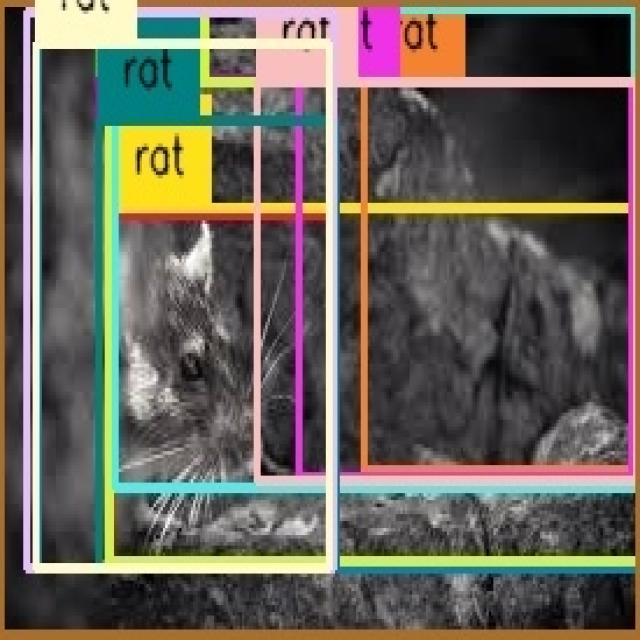rat: (1, 4, 639, 636), (39, 7, 640, 570), (99, 9, 639, 565), (108, 80, 639, 563), (115, 9, 634, 488), (110, 206, 639, 563), (27, 12, 334, 568), (36, 44, 329, 568), (257, 82, 637, 481), (299, 82, 632, 478), (100, 80, 333, 566), (99, 121, 336, 568), (364, 82, 637, 470), (110, 217, 332, 566)
